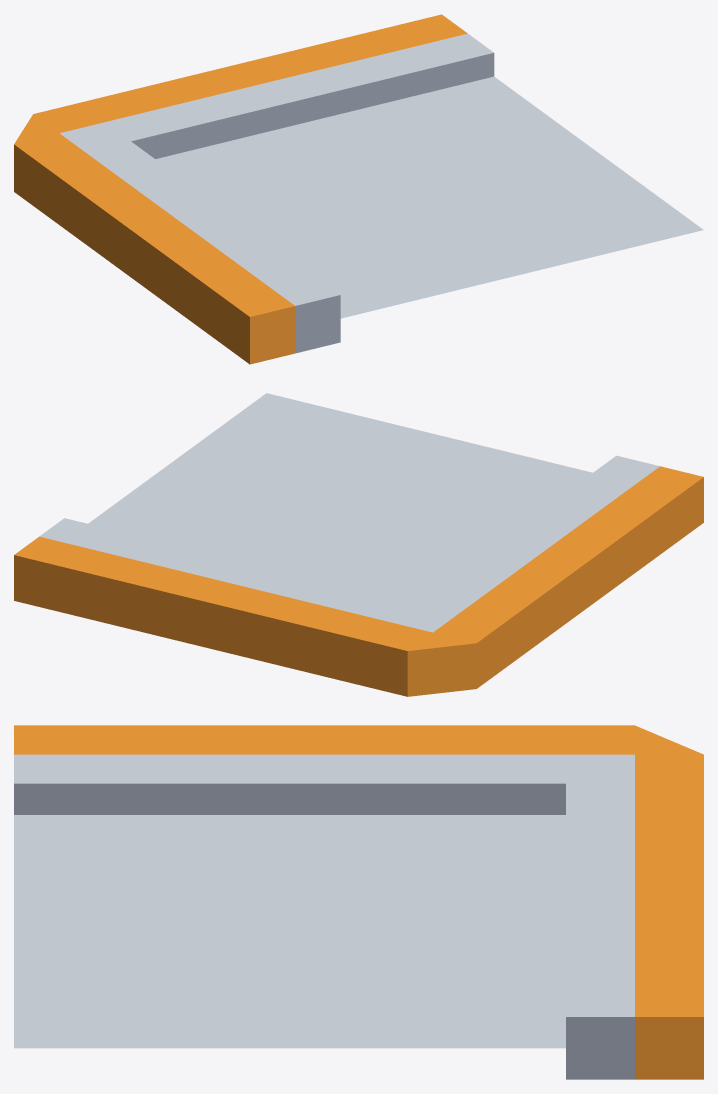
File: platform_cornerOpen.fbx
The picture shows the model from 3 angles, top to bottom: view 1: azimuth 30°, elevation 25°; view 2: azimuth 150°, elevation 25°; view 3: azimuth 270°, elevation 25°; orthographic projection. The views are drawn at different scales.
Visible parts, largest first — view 1: platform_cornerOpen; view 2: platform_cornerOpen; view 3: platform_cornerOpen.
Part boxes in pixels (x1,y1,x2,y2): platform_cornerOpen: (14, 14, 703, 364); platform_cornerOpen: (14, 393, 703, 696); platform_cornerOpen: (14, 725, 703, 1079).
Bounding box in the file's own units: 10 × 1 × 10.
